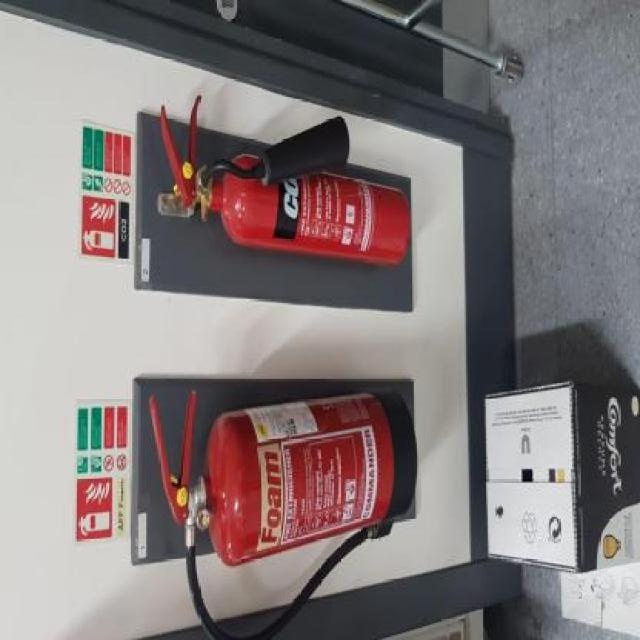fire extinguisher: (149, 388, 420, 640), (159, 95, 413, 267)
